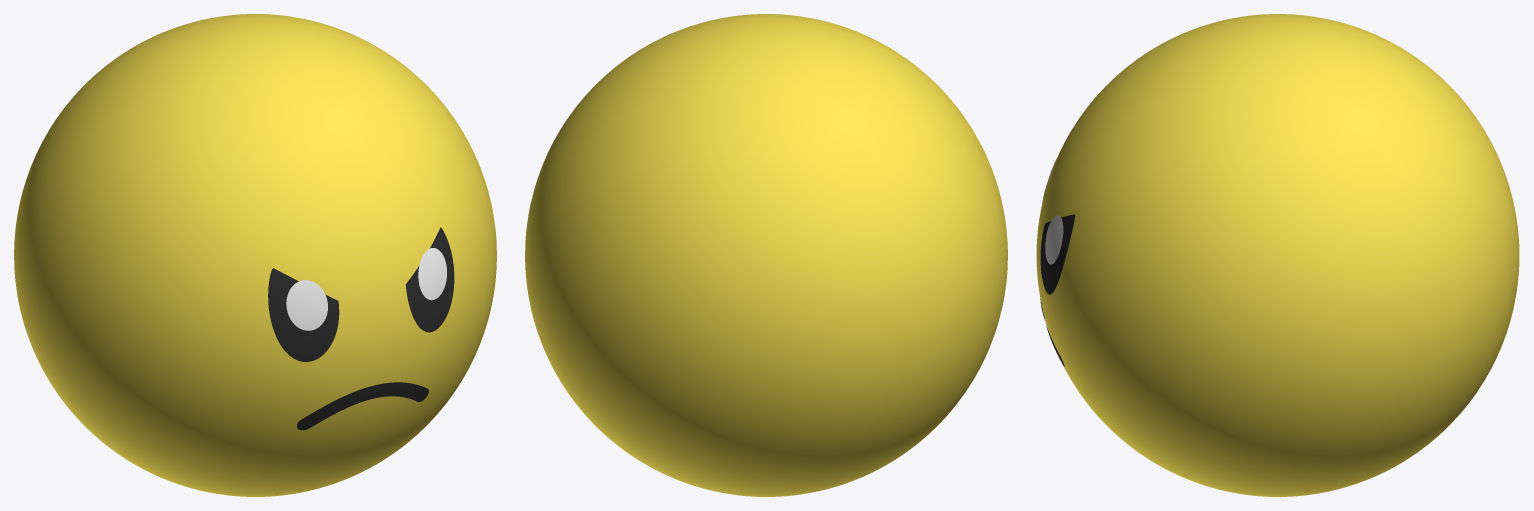
The picture shows the model from 3 angles, left to right: view 1: azimuth 30°, elevation 25°; view 2: azimuth 150°, elevation 25°; view 3: azimuth 270°, elevation 25°; orthographic projection.
Parts seen in each view (by area): view 1: 04-yellow-angry; view 2: 04-yellow-angry; view 3: 04-yellow-angry.
Part boxes in pixels (x1,y1,x2,y2): 04-yellow-angry: [14, 14, 496, 496]; 04-yellow-angry: [525, 14, 1007, 496]; 04-yellow-angry: [1036, 14, 1519, 496].
Bounding box in the file's own units: 2 × 2 × 2.
